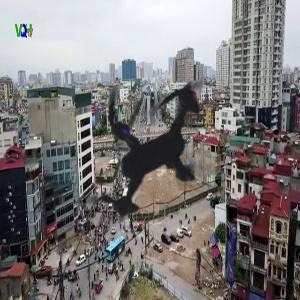drone: (5, 6, 300, 300)
